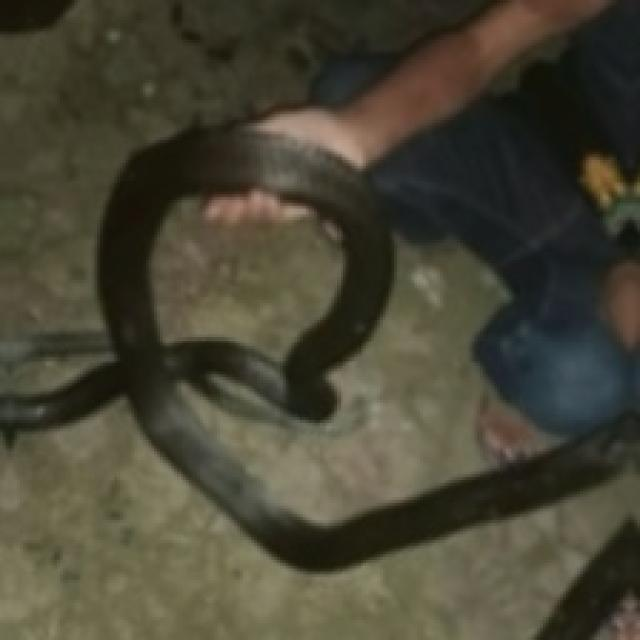king cobra: (0, 129, 637, 569), (149, 189, 346, 363), (537, 523, 637, 637), (434, 149, 540, 231), (214, 237, 263, 277), (177, 237, 206, 269)
